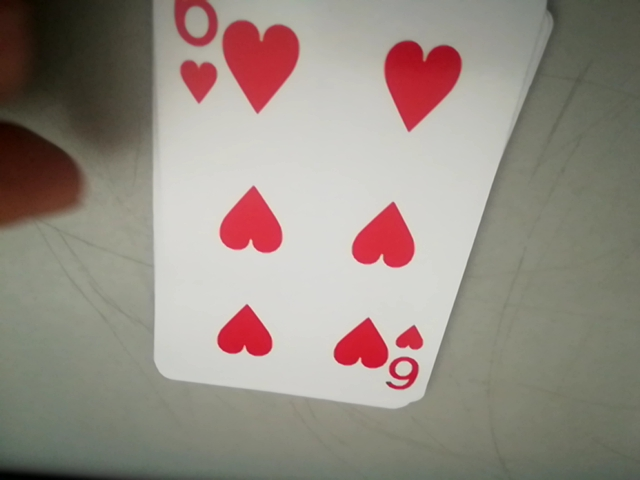hx 6: (388, 327, 424, 389)
